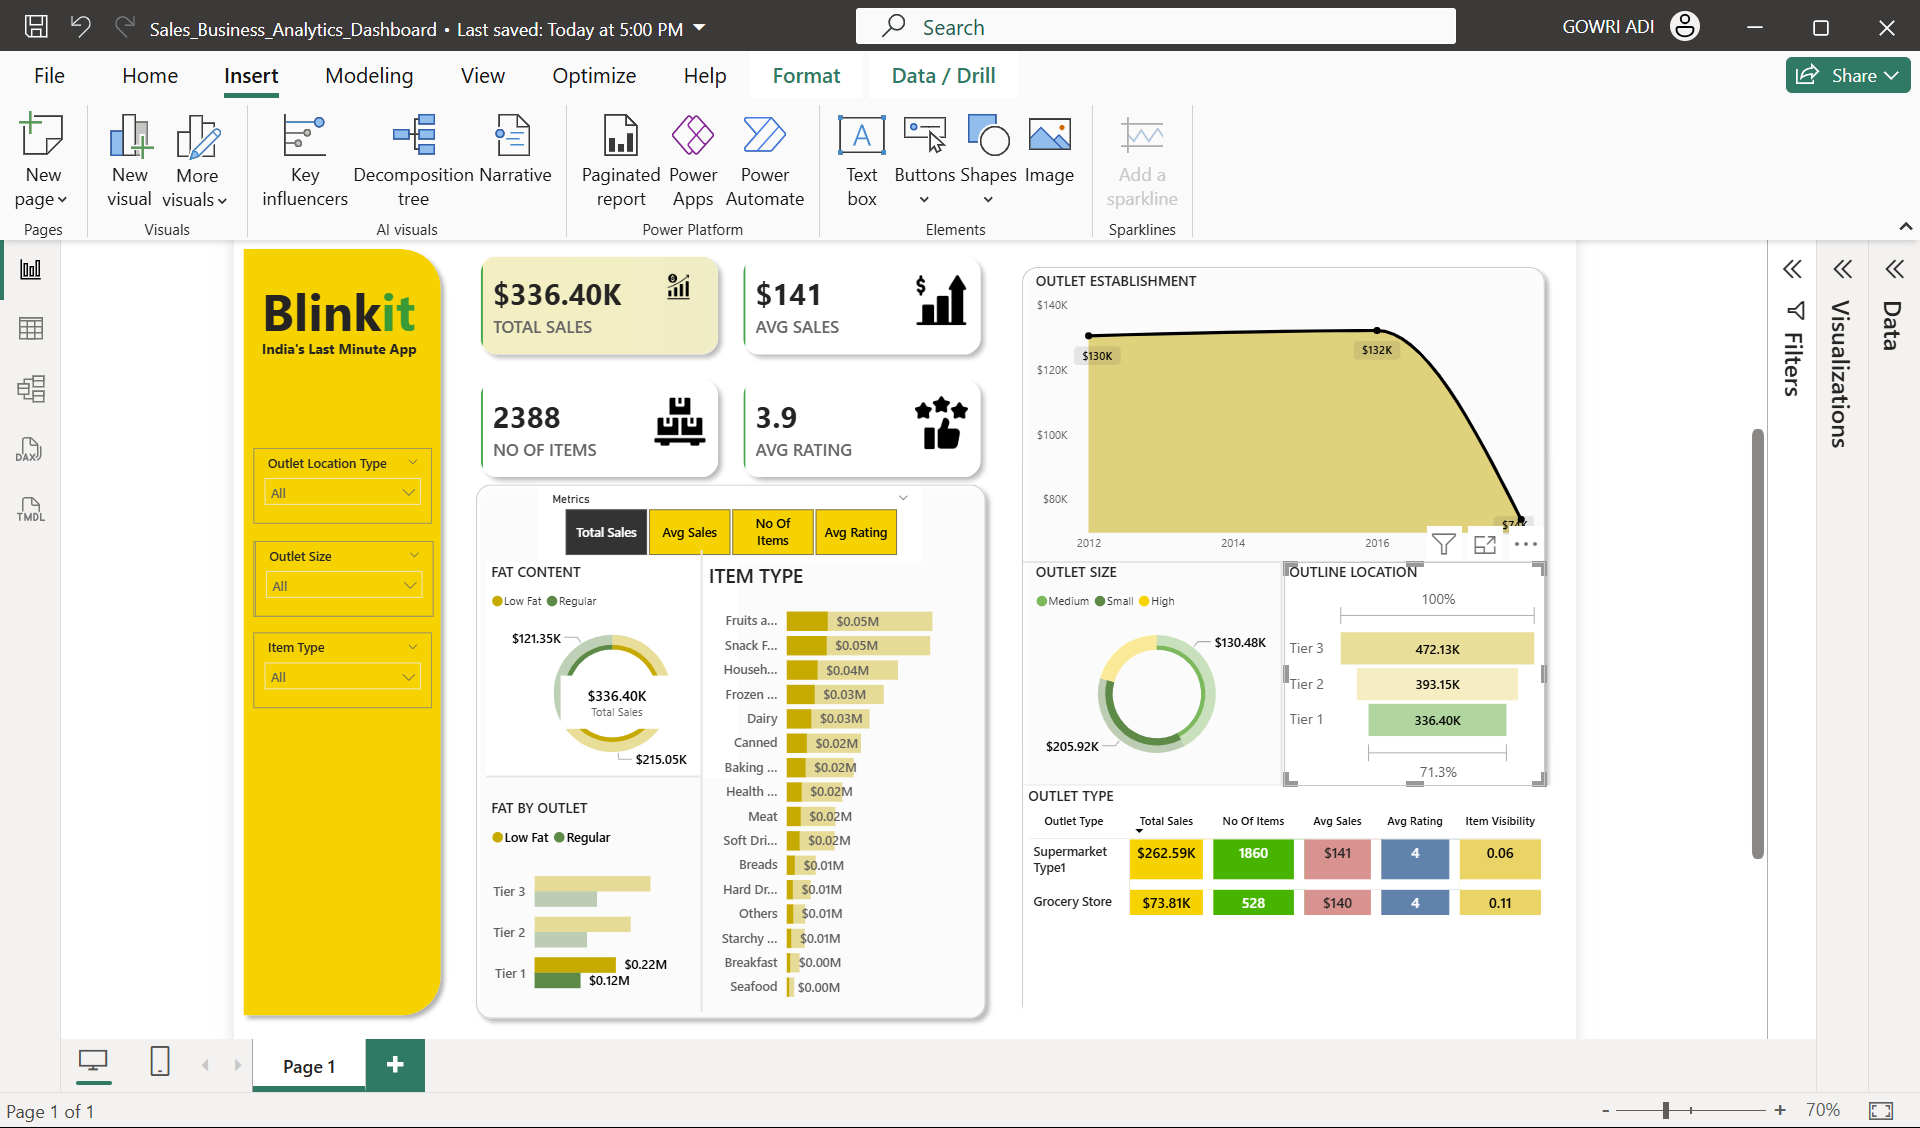

This screenshot's page, from the dashboard's own definition file:
{"tool":"powerbi","page":{"name":"Page 1","canvas":[1278,1400],"ordinal":0},"visuals":[{"type":"shape","box":[0,322,206,748],"z":0},{"type":"textbox","box":[22,352,166,82],"z":1000},{"type":"textbox","box":[22,410,170,46],"z":2000},{"type":"cardVisual","fields":{"Data":["BlinkIT Grocery Data.Total Sales","BlinkIT Grocery Data.Avg Sales","BlinkIT Grocery Data.No Of Items","BlinkIT Grocery Data.Avg Rating"]},"box":[205,308.3,535,268.3],"z":3000},{"type":"shape","box":[221.7,545,503.3,526.7],"z":4000},{"type":"donutChart","title":"FAT CONTENT","fields":{"Y":["BlinkIT Grocery Data.Avg Rating"],"Category":["BlinkIT Grocery Data.Item Fat Content"]},"box":[240,628.3,240,205],"z":5000},{"type":"slicer","fields":{"Values":["Metrics.Metrics"]},"box":[290,556.7,365,71.7],"z":6000},{"type":"cardVisual","fields":{"Data":["BlinkIT Grocery Data.Avg Rating"]},"box":[305,731.7,118.3,61.7],"z":7000},{"type":"clusteredBarChart","title":"FAT BY OUTLET","fields":{"Y":["BlinkIT Grocery Data.Avg Rating"],"Category":["BlinkIT Grocery Data.Outlet Location Type"],"Series":["BlinkIT Grocery Data.Item Fat Content"]},"box":[240,853.3,205,203.3],"z":8000},{"type":"shape","box":[240,813.3,205,40],"z":9000},{"type":"shape","box":[343.3,616.7,205,440],"z":10000},{"type":"barChart","title":"ITEM TYPE","fields":{"Y":["BlinkIT Grocery Data.Avg Rating"],"Category":["BlinkIT Grocery Data.Item Type"]},"box":[446.7,628.3,263.3,428.3],"z":11000},{"type":"shape","box":[742,338,516,734],"z":12000},{"type":"lineChart","title":"OUTLET ESTABLISHMENT","fields":{"Y":["BlinkIT Grocery Data.Total Sales"],"Category":["BlinkIT Grocery Data.Outlet Establishment Year"]},"box":[758,352,484,276],"z":13000},{"type":"shape","box":[752,608,496,40],"z":14000},{"type":"donutChart","title":"OUTLET SIZE","fields":{"Y":["BlinkIT Grocery Data.Total Sales"],"Category":["BlinkIT Grocery Data.Outlet Size"]},"box":[758,628,240,206],"z":15000},{"type":"shape","box":[896,628,204,214],"z":16000},{"type":"funnel","title":"OUTLINE LOCATION","fields":{"Y":["Sum(BlinkIT Grocery Data.Sales)"],"Category":["BlinkIT Grocery Data.Outlet Location Type"]},"box":[1000,628,248,214],"z":17000},{"type":"shape","box":[752,822,496,40],"z":18000},{"type":"pivotTable","title":"OUTLET TYPE","fields":{"Rows":["BlinkIT Grocery Data.Outlet Type"],"Values":["BlinkIT Grocery Data.Total Sales","BlinkIT Grocery Data.No Of Items","BlinkIT Grocery Data.Avg Sales","BlinkIT Grocery Data.Avg Rating","Avg(BlinkIT Grocery Data.Item Visibility)"]},"box":[752,842,506,230],"z":19000},{"type":"slicer","fields":{"Values":["BlinkIT Grocery Data.Outlet Location Type"]},"box":[18,520,170,72],"z":20000},{"type":"slicer","fields":{"Values":["BlinkIT Grocery Data.Outlet Size"]},"box":[18,608,170,72],"z":21000},{"type":"slicer","fields":{"Values":["BlinkIT Grocery Data.Item Type"]},"box":[18,696,170,72],"z":22000},{"type":"slicer","fields":{"Values":["BlinkIT Grocery Data.Outlet Size"]},"box":[20,608,170,72],"z":23000},{"type":"textbox","box":[0,146,206,72],"z":24000}]}

Visuals, with their boxes on the page's 1278x1400 design canvas (x1, y1, x2, y2). These are canvas units, not pixel positions in the 1920x1128 screenshot, which may show the page scaled, cropped or inside an application window:
shape: [left=0, top=322, right=206, bottom=1070]
textbox: [left=22, top=352, right=188, bottom=434]
textbox: [left=22, top=410, right=192, bottom=456]
cardVisual - BlinkIT Grocery Data.Total Sales x BlinkIT Grocery Data.Avg Sales: [left=205, top=308, right=740, bottom=577]
shape: [left=222, top=545, right=725, bottom=1072]
"FAT CONTENT" donutChart: [left=240, top=628, right=480, bottom=833]
slicer - Metrics.Metrics: [left=290, top=557, right=655, bottom=628]
cardVisual - BlinkIT Grocery Data.Avg Rating: [left=305, top=732, right=423, bottom=793]
"FAT BY OUTLET" clusteredBarChart: [left=240, top=853, right=445, bottom=1057]
shape: [left=240, top=813, right=445, bottom=853]
shape: [left=343, top=617, right=548, bottom=1057]
"ITEM TYPE" barChart: [left=447, top=628, right=710, bottom=1057]
shape: [left=742, top=338, right=1258, bottom=1072]
"OUTLET ESTABLISHMENT" lineChart: [left=758, top=352, right=1242, bottom=628]
shape: [left=752, top=608, right=1248, bottom=648]
"OUTLET SIZE" donutChart: [left=758, top=628, right=998, bottom=834]
shape: [left=896, top=628, right=1100, bottom=842]
"OUTLINE LOCATION" funnel: [left=1000, top=628, right=1248, bottom=842]
shape: [left=752, top=822, right=1248, bottom=862]
"OUTLET TYPE" pivotTable: [left=752, top=842, right=1258, bottom=1072]
slicer - BlinkIT Grocery Data.Outlet Location Type: [left=18, top=520, right=188, bottom=592]
slicer - BlinkIT Grocery Data.Outlet Size: [left=18, top=608, right=188, bottom=680]
slicer - BlinkIT Grocery Data.Item Type: [left=18, top=696, right=188, bottom=768]
slicer - BlinkIT Grocery Data.Outlet Size: [left=20, top=608, right=190, bottom=680]
textbox: [left=0, top=146, right=206, bottom=218]
